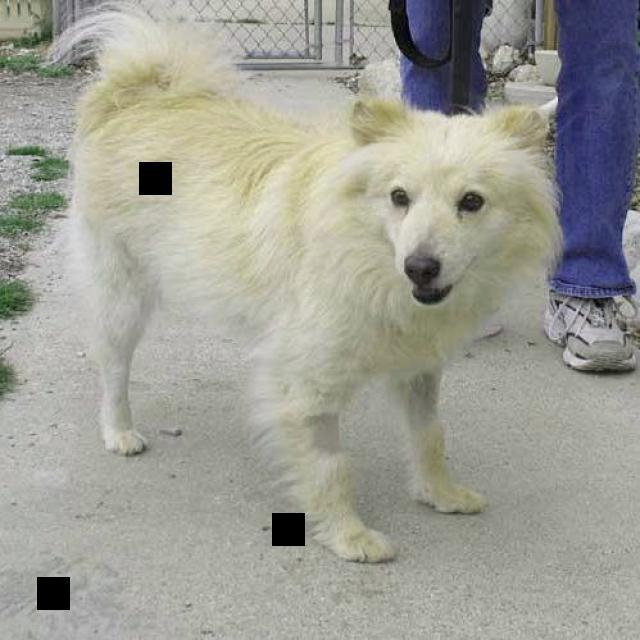adult_dog: (42, 8, 563, 566)
non-dog: (398, 1, 640, 371)
